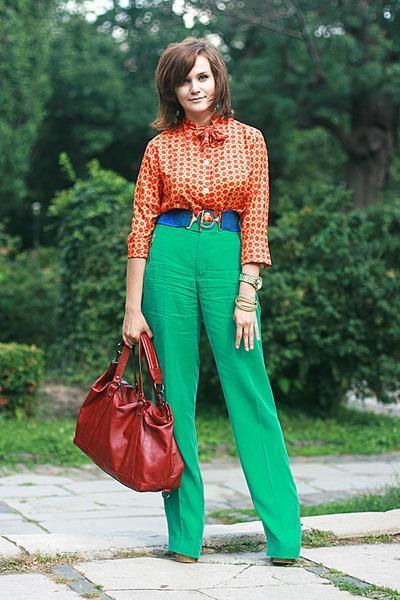bag: (73, 330, 184, 491)
pants: (141, 225, 307, 562)
shirt: (127, 118, 269, 267)
shoe: (252, 541, 296, 566)
